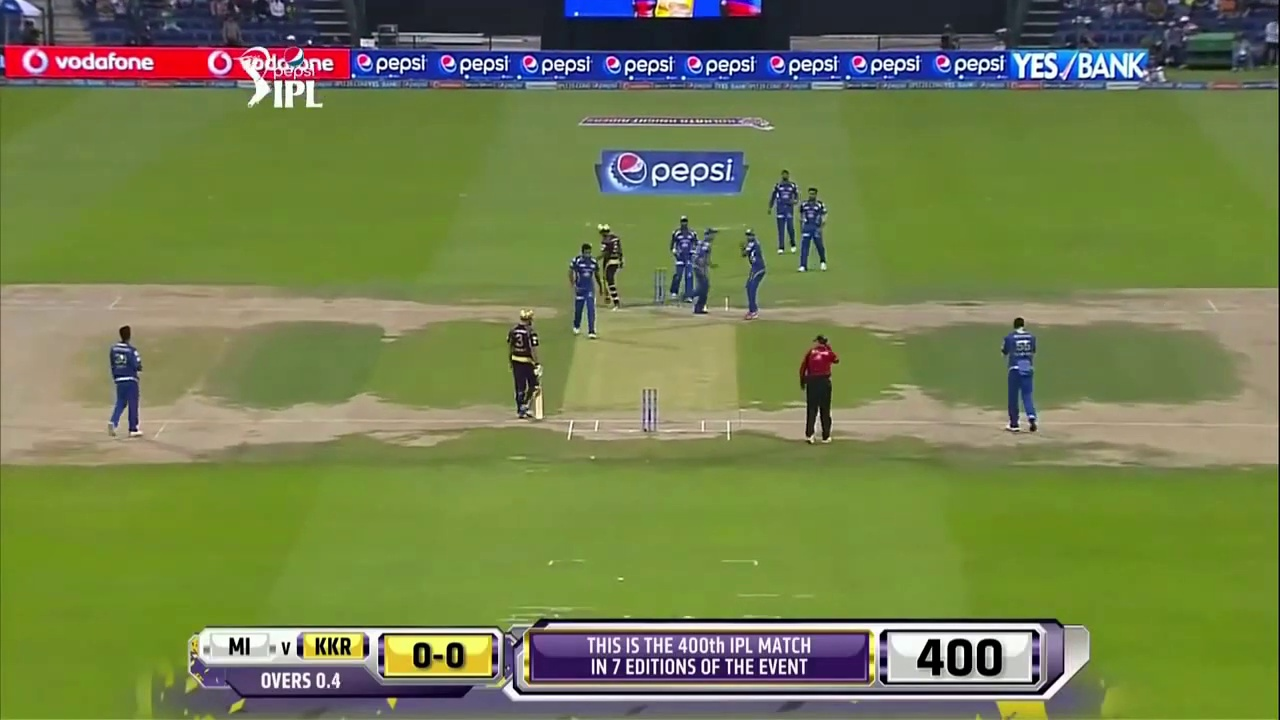bat: (533, 378, 544, 421)
stumps: (642, 386, 659, 434)
